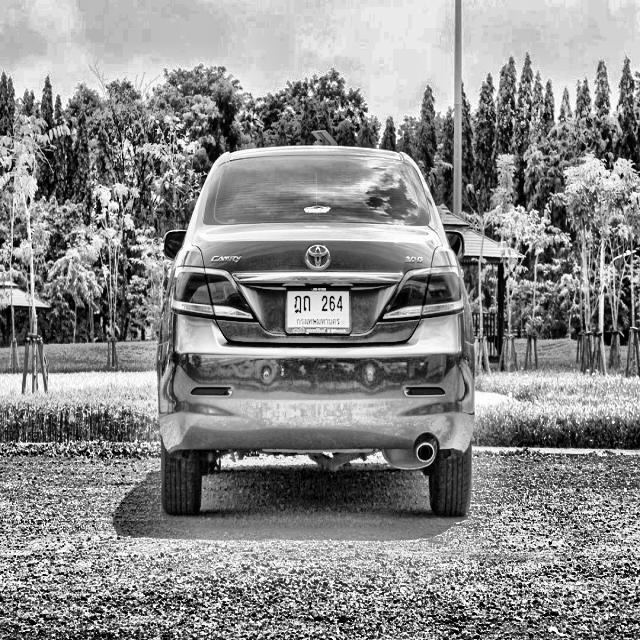license-plate: (280, 284, 356, 346)
